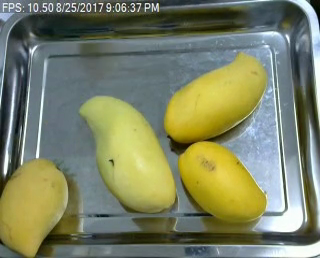Mango: (79, 93, 178, 216), (161, 51, 268, 145), (175, 141, 271, 222), (0, 155, 72, 255)
